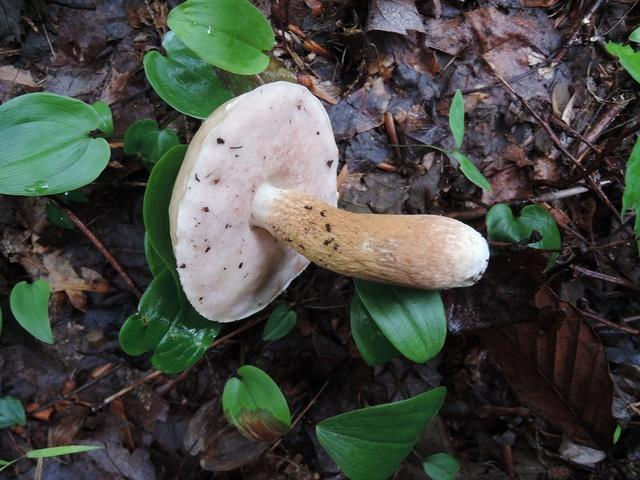poisonous_mushroom: (166, 79, 491, 361)
